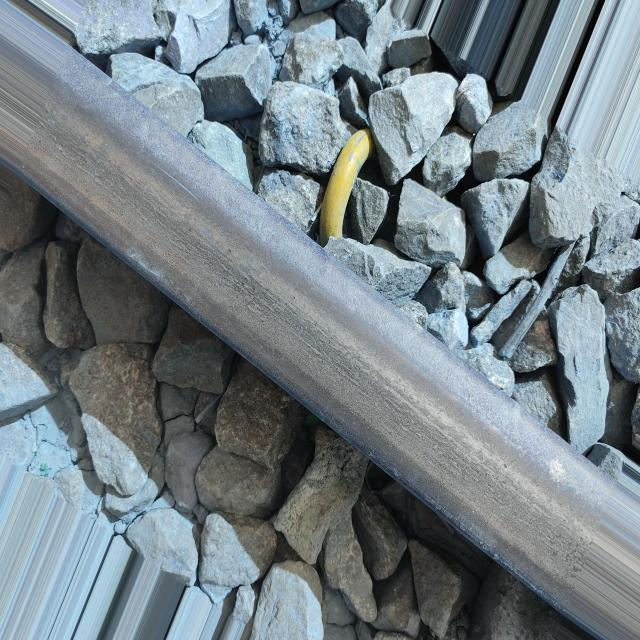Missing Fastener: (320, 130, 373, 247)
